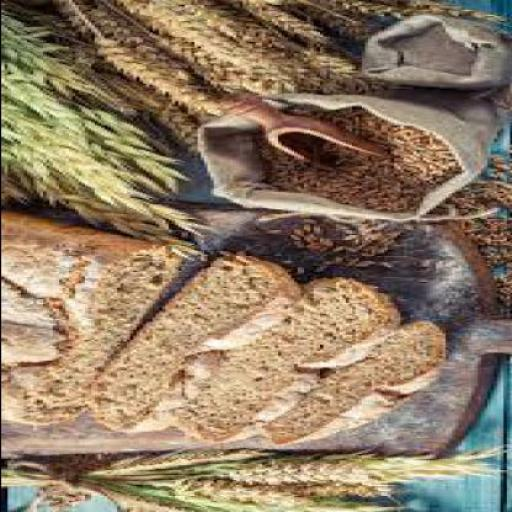biodegradable: (2, 0, 204, 260), (77, 250, 296, 429), (170, 274, 396, 441), (1, 210, 175, 424), (1, 450, 502, 511), (254, 319, 448, 444), (51, 0, 216, 113), (116, 0, 309, 82), (84, 50, 197, 152), (218, 3, 352, 79), (138, 24, 271, 93), (225, 0, 326, 39), (285, 0, 377, 39), (338, 0, 508, 21), (390, 26, 470, 70), (384, 135, 442, 192), (309, 59, 380, 94), (335, 164, 386, 203), (341, 228, 402, 254), (306, 255, 389, 272), (300, 169, 358, 193), (286, 220, 328, 251), (441, 193, 489, 218), (461, 215, 509, 240), (264, 160, 306, 186), (461, 178, 509, 200), (335, 220, 386, 240), (425, 145, 457, 174), (345, 116, 390, 132), (367, 126, 412, 142), (328, 106, 360, 122), (479, 238, 509, 253), (496, 272, 508, 299), (261, 146, 281, 162), (486, 154, 506, 170), (334, 147, 360, 159), (354, 156, 376, 169), (319, 142, 341, 152)
